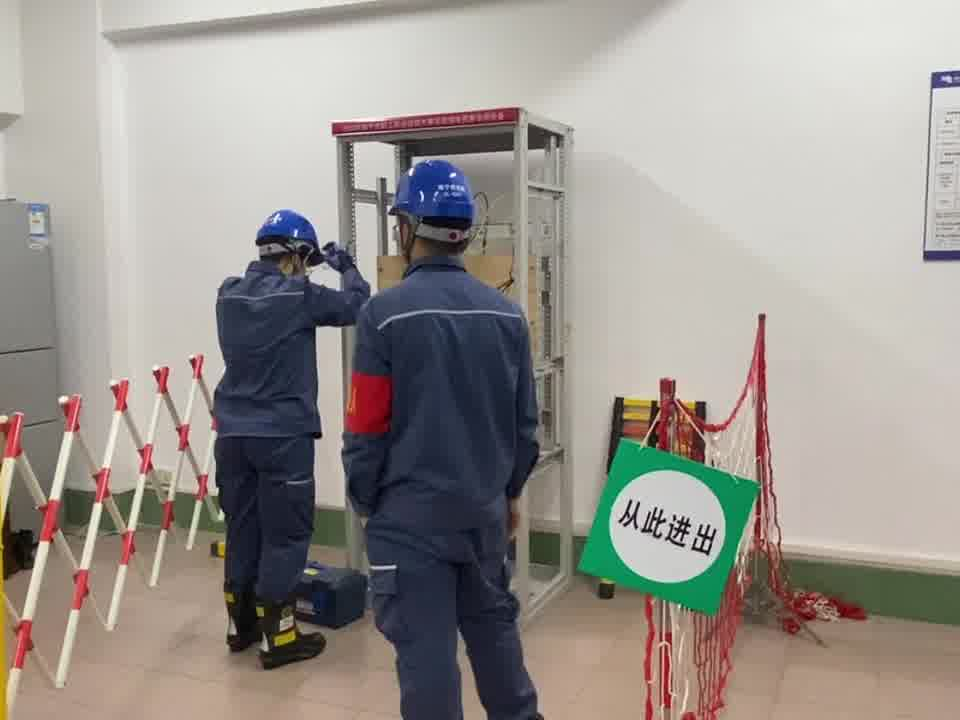badge: (345, 371, 395, 437)
downsuit: (365, 539, 548, 720), (214, 445, 319, 614)
glove: (321, 240, 354, 274)
halt: (388, 158, 480, 261), (254, 208, 320, 273)
inear: (392, 218, 428, 261)
intosign: (576, 442, 760, 614)
person: (345, 155, 562, 720), (203, 205, 349, 642)
shoe: (216, 597, 335, 668)
upsuit: (343, 266, 541, 528), (212, 266, 349, 432)
